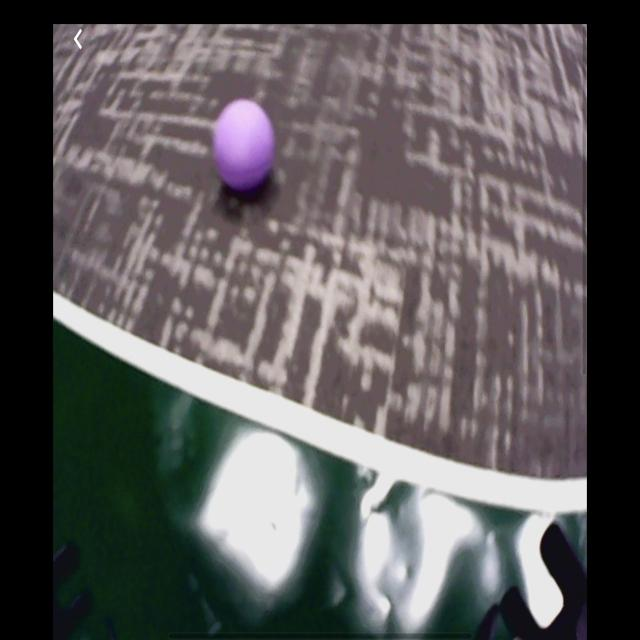ball: (216, 103, 276, 190)
